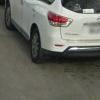Car: (4, 2, 100, 66)
